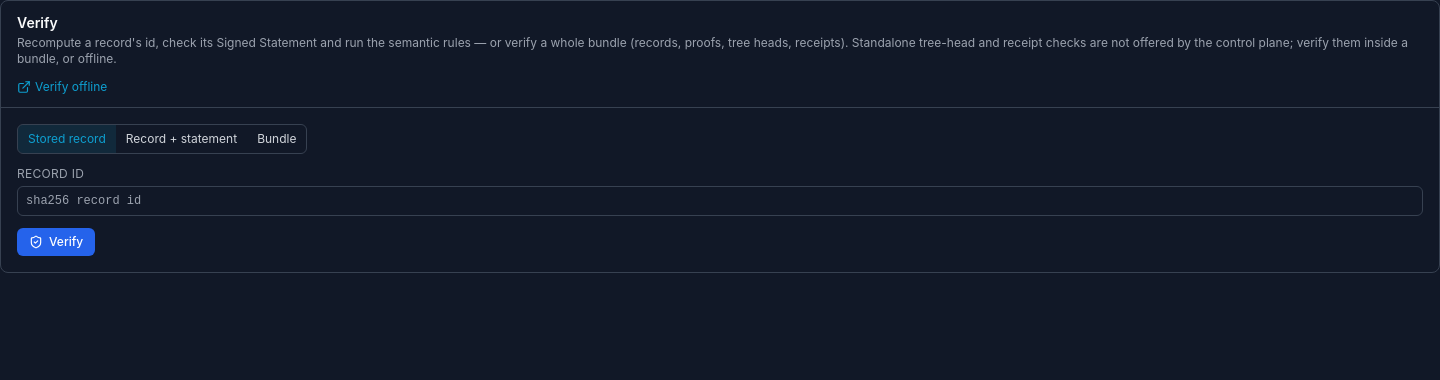
Scenario: VerifyPanel › shows a consistent record in the recomputed vocabulary
Type " rec-2 " into the field with test id "verify-record-id" at (720,201), box 17,186 -> 1423,216
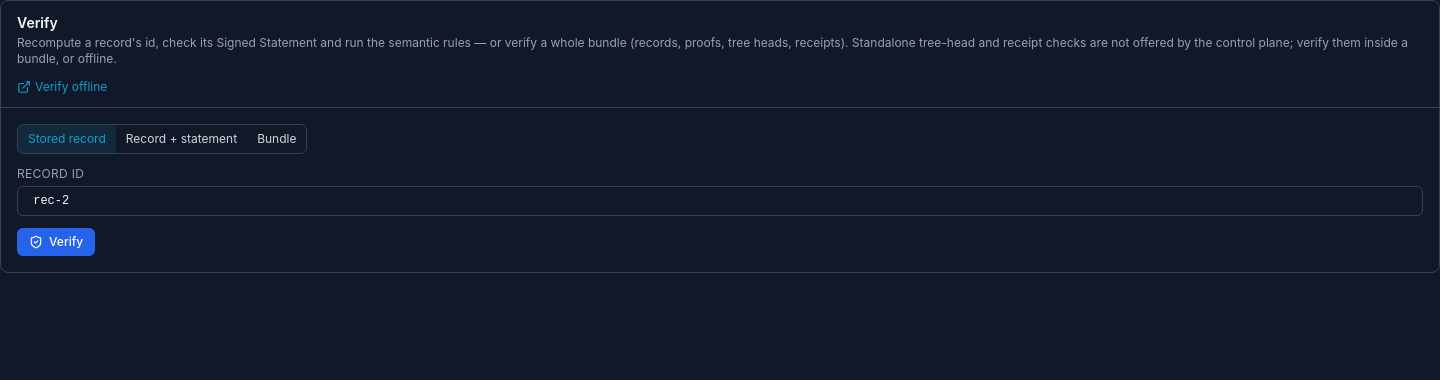
Click the button with test id "verify-run" at (56,242), box 17,228 -> 95,256
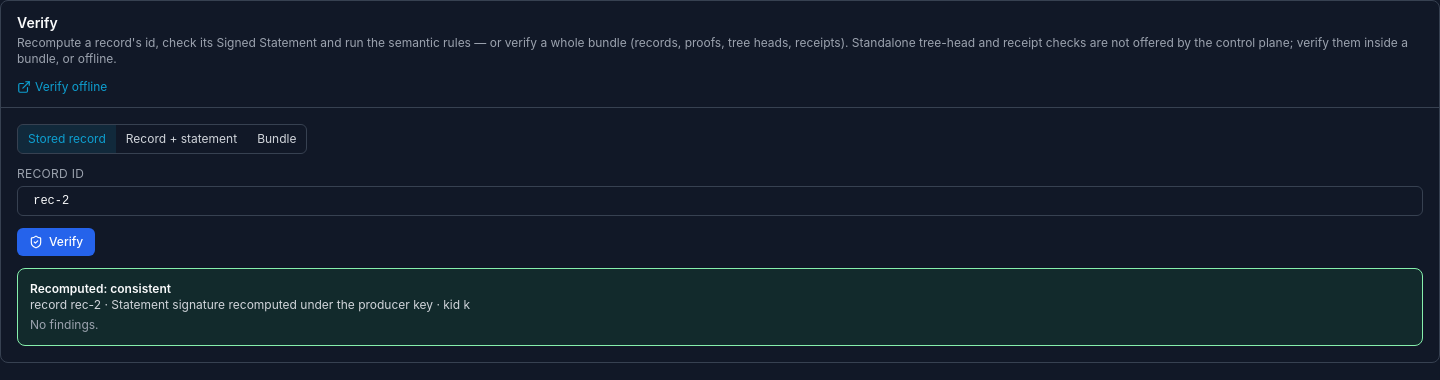
Now the element with test id "verify-result" shows "Recomputed: consistent", box 30,281 -> 171,296
Now the element with test id "verify-result" shows "recomputed under the producer key", box 228,297 -> 433,312
Now the element with test id "verify-result" shows "No findings.", box 30,317 -> 98,332
